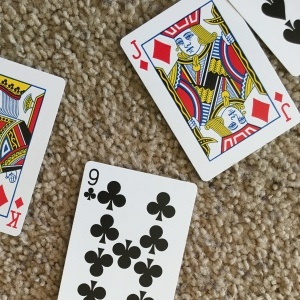card: (120, 1, 299, 181)
